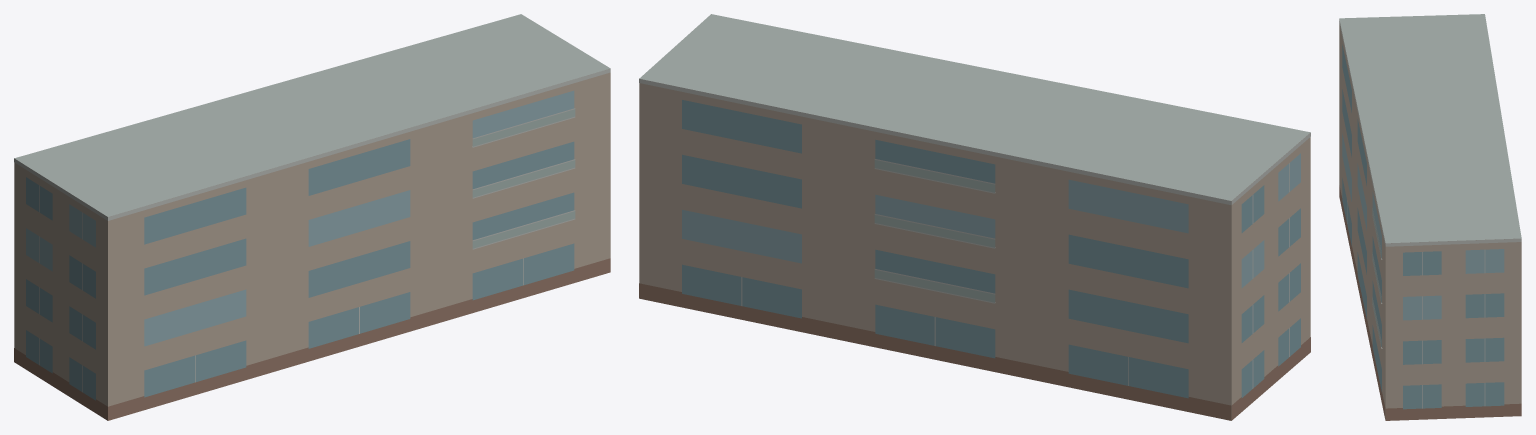
Rendered from survey-upis-32764104.glb.
The picture shows the model from 3 angles, left to right: view 1: azimuth 30°, elevation 25°; view 2: azimuth 150°, elevation 25°; view 3: azimuth 270°, elevation 25°; orthographic projection. The views are drawn at different scales.
Visible parts, largest first — view 1: survey-upis-32764104.tmp; view 2: survey-upis-32764104.tmp; view 3: survey-upis-32764104.tmp.
Boxes of the visible parts, bbox=[...] form: survey-upis-32764104.tmp: bbox=[14, 14, 610, 420]; survey-upis-32764104.tmp: bbox=[639, 14, 1310, 420]; survey-upis-32764104.tmp: bbox=[1339, 14, 1521, 420].
Size of the model in its own units: 34.63 by 12.5 by 11.65.
